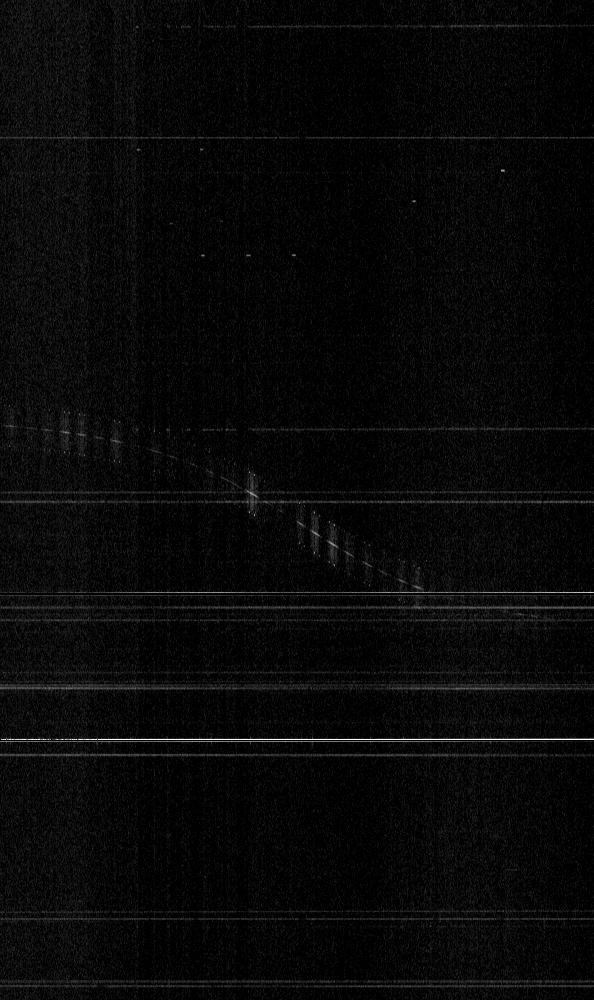signal: (0, 0, 593, 999)
